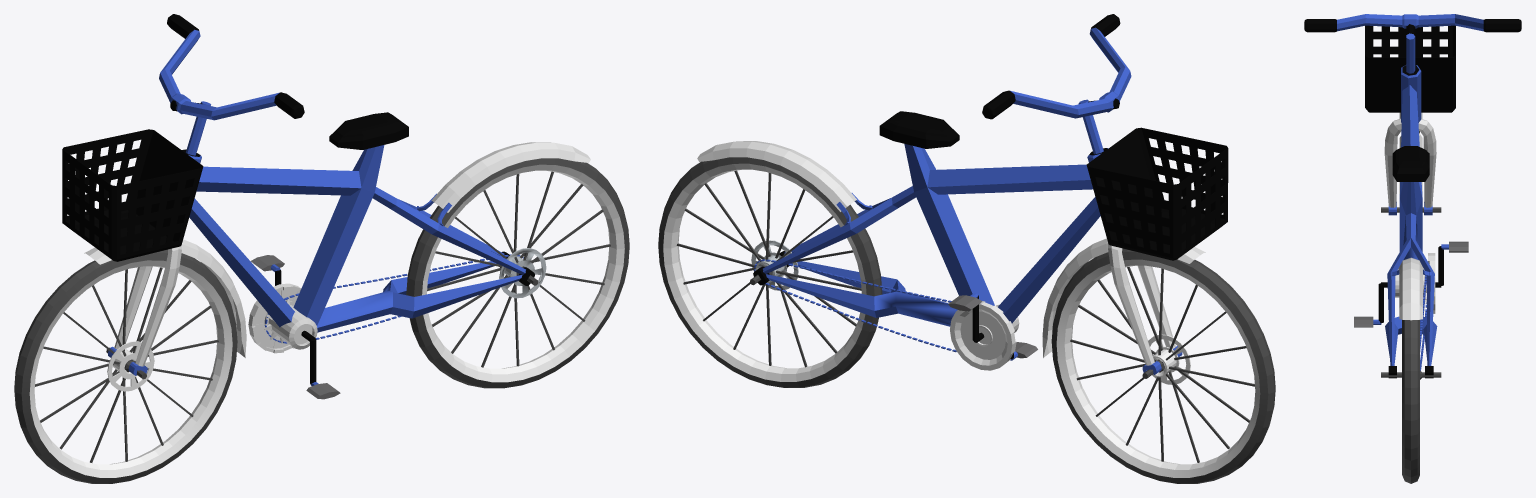
The model's file is Xe dap.fbx.
3 renders of one model, left to right at view 1: azimuth 30°, elevation 25°; view 2: azimuth 150°, elevation 25°; view 3: azimuth 270°, elevation 25°, orthographic. The views are drawn at different scales.
Parts seen in each view (by area): view 1: Back Tire; view 2: Back Tire; view 3: Back Tire.
Boxes of the visible parts, box(x1,y1,x2,y2) form: Back Tire: box(14, 14, 629, 483); Back Tire: box(658, 14, 1275, 483); Back Tire: box(1304, 14, 1521, 483).
Bounding box in the file's own units: 604 × 371 × 217.
